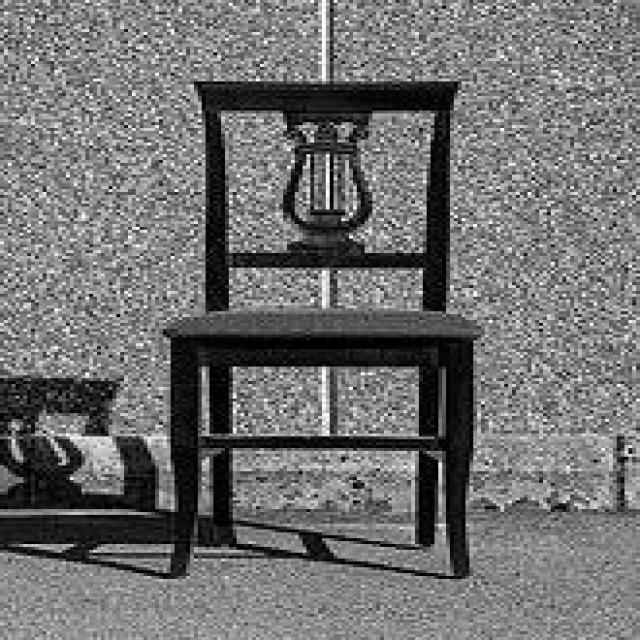chair: (156, 78, 483, 582)
